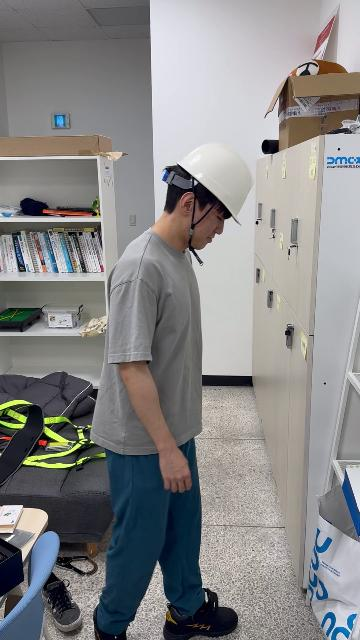helmet_worn: (175, 143, 253, 224)
shoe_not_worn: (40, 574, 84, 633)
shoe_worn: (163, 588, 237, 639), (92, 605, 128, 640)
vest_not_worn: (108, 237, 204, 454)
